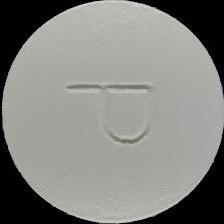33261-399: (0, 0, 224, 224)
